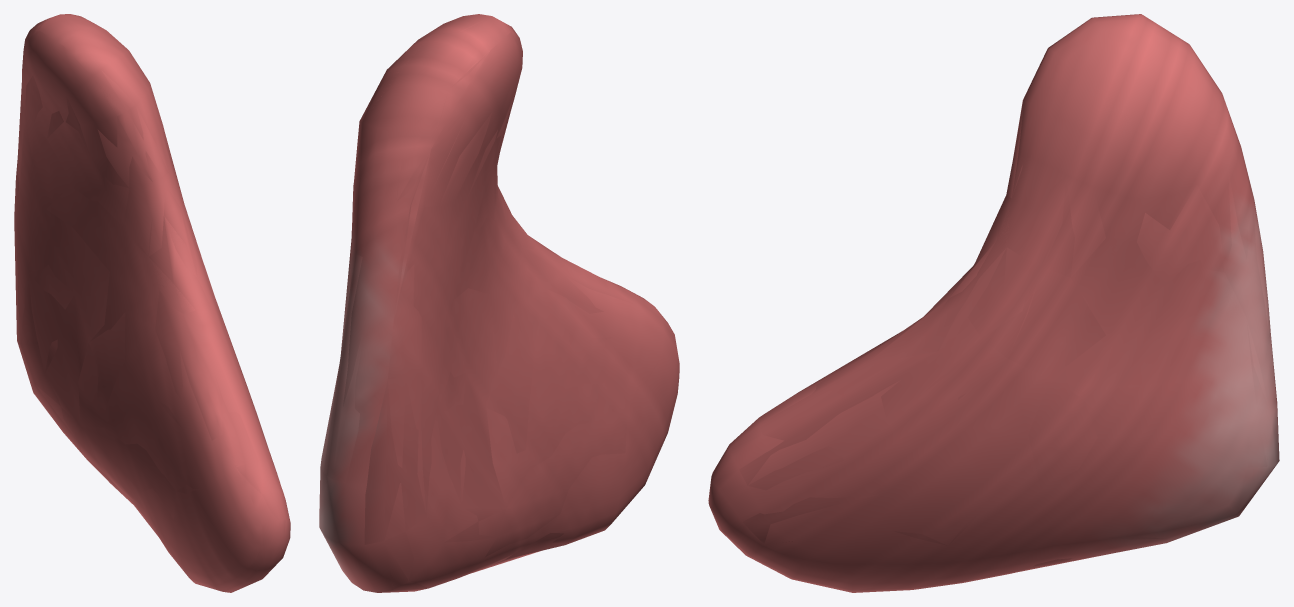
Rendered from Наружный аддуктор нижней челюсти L.fbx.
The picture shows the model from 3 angles, left to right: view 1: azimuth 30°, elevation 25°; view 2: azimuth 150°, elevation 25°; view 3: azimuth 270°, elevation 25°; orthographic projection. The views are drawn at different scales.
Visible parts, largest first — view 1: Наружный аддуктор нижней челюсти L, Наружный аддуктор нижней челюсти L low; view 2: Наружный аддуктор нижней челюсти L, Наружный аддуктор нижней челюсти L low; view 3: Наружный аддуктор нижней челюсти L, Наружный аддуктор нижней челюсти L low.
Part boxes in pixels (left/top/right/bottom): Наружный аддуктор нижней челюсти L: left=14, top=14, right=290, bottom=592; Наружный аддуктор нижней челюсти L low: left=14, top=15, right=285, bottom=592; Наружный аддуктор нижней челюсти L: left=319, top=14, right=679, bottom=592; Наружный аддуктор нижней челюсти L low: left=319, top=17, right=659, bottom=590; Наружный аддуктор нижней челюсти L: left=708, top=14, right=1279, bottom=592; Наружный аддуктор нижней челюсти L low: left=709, top=18, right=1277, bottom=589.
Size of the model in its own units: 0.0486 by 0.1835 by 0.1691.
1 material, 1 textured.
